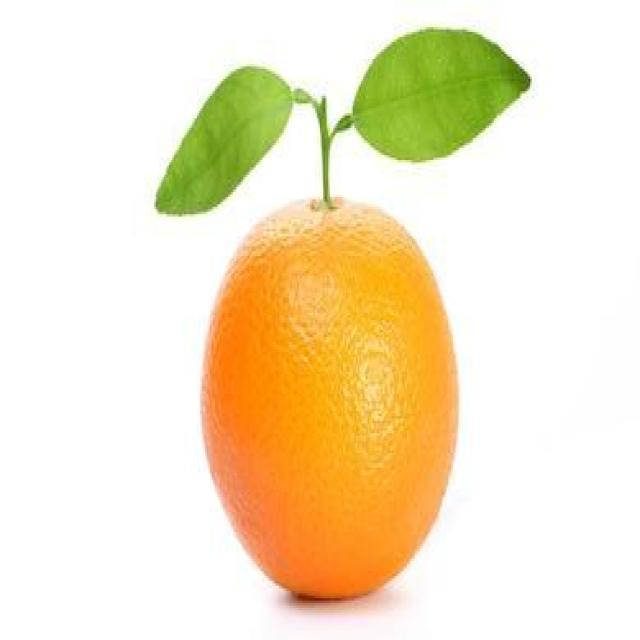orange: (199, 203, 462, 602)
